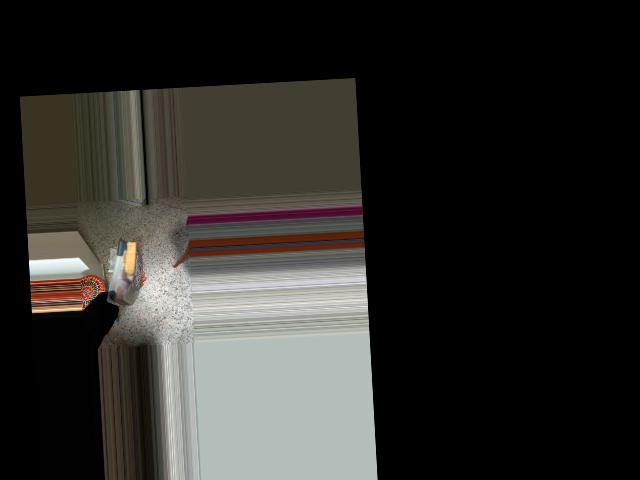cheese: (101, 237, 145, 306)
